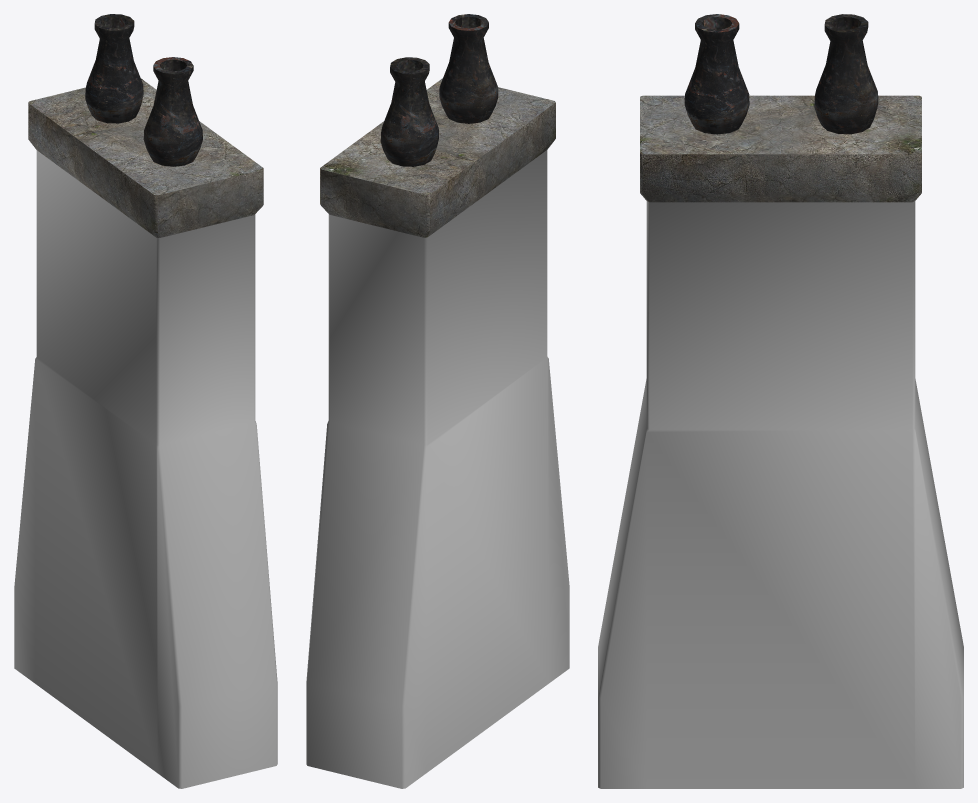
The model's file is Chimney_2.fbx.
3 renders of one model, left to right at view 1: azimuth 30°, elevation 25°; view 2: azimuth 150°, elevation 25°; view 3: azimuth 270°, elevation 25°, orthographic. The views are drawn at different scales.
Visible parts, largest first — view 1: Chimney_2; view 2: Chimney_2; view 3: Chimney_2.
Boxes of the visible parts, x1,y1,x2,y2 form: Chimney_2: (14,14,277,788); Chimney_2: (306,14,569,788); Chimney_2: (598,14,963,788).
Size of the model in its own units: 118 by 691 by 310.
